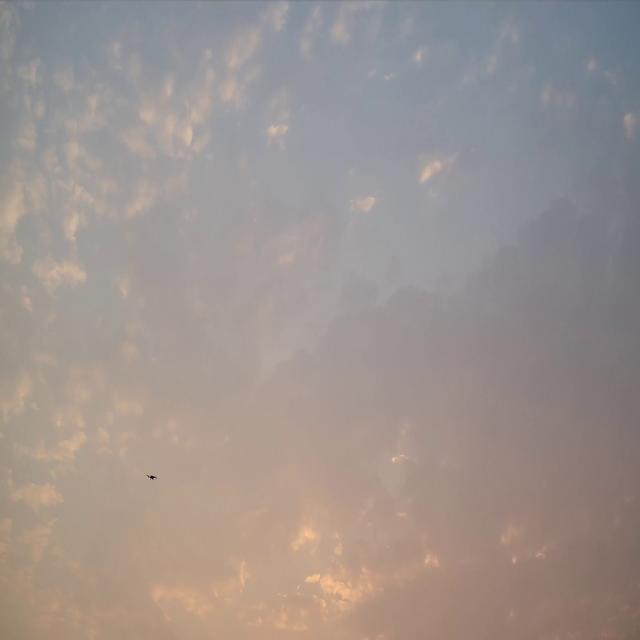UAV: (146, 474, 157, 480)
